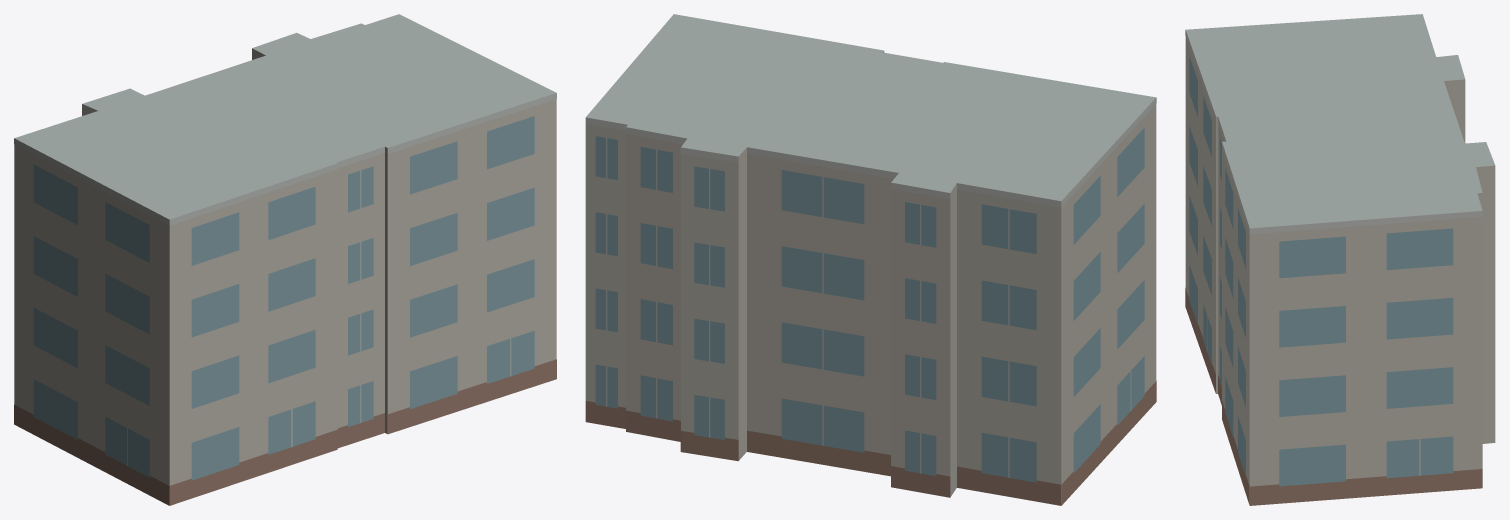
File: survey-upis-32817599.glb
The picture shows the model from 3 angles, left to right: view 1: azimuth 30°, elevation 25°; view 2: azimuth 150°, elevation 25°; view 3: azimuth 270°, elevation 25°; orthographic projection. The views are drawn at different scales.
Parts seen in each view (by area): view 1: survey-upis-32817599.tmp; view 2: survey-upis-32817599.tmp; view 3: survey-upis-32817599.tmp.
Part boxes in pixels (<box>): survey-upis-32817599.tmp: <box>14,14,556,505</box>; survey-upis-32817599.tmp: <box>585,14,1156,505</box>; survey-upis-32817599.tmp: <box>1185,14,1495,505</box>.
Bounding box in the file's own units: 19.24 × 11.6 × 11.75.
